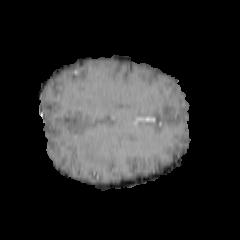glioma: (78, 133, 115, 168)
